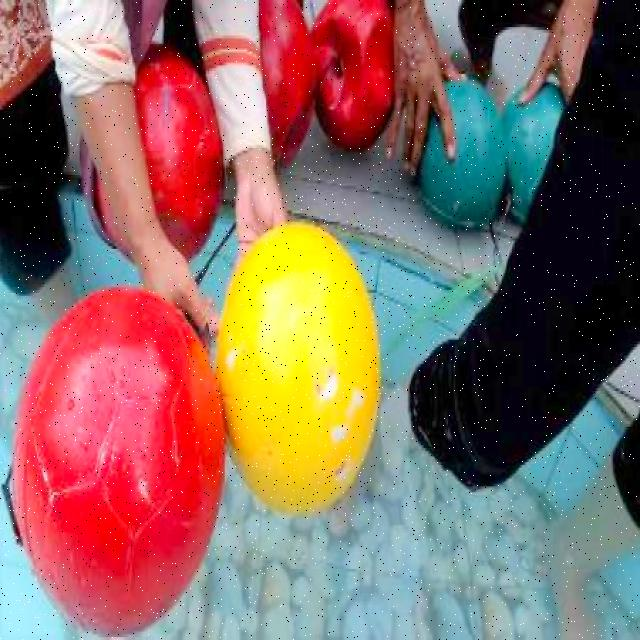buoy: (8, 286, 225, 638), (214, 218, 380, 514), (131, 53, 223, 264), (308, 2, 396, 152), (425, 76, 504, 226), (255, 0, 314, 168), (501, 80, 567, 222)
